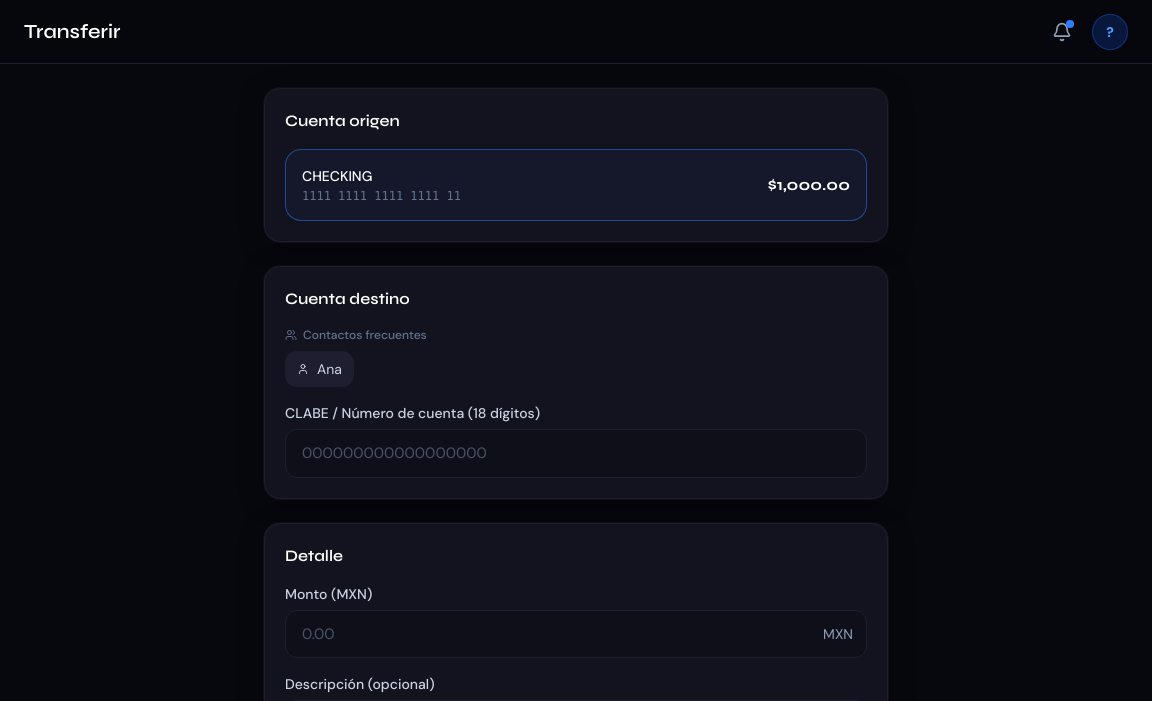
Test: TransferPage — confirm & success steps › shows a summary with the computed post-transfer balance
This screenshot has width=1152, height=701.
Expected: the text "CHECKING" is shown, [302,167,372,185]
Step 1. Type "222222222222222222" into the field with placeholder "000000000000000000" → (576, 453), box [285,429,867,478]
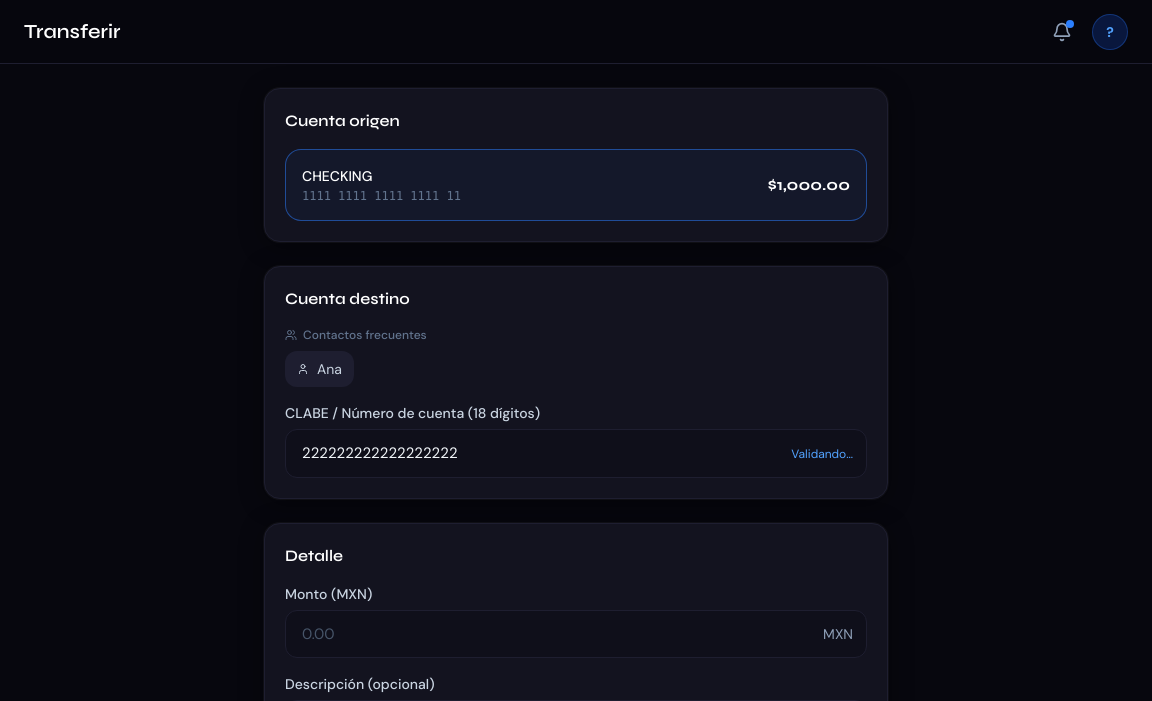
Step 2. Type "150" into the number field with placeholder "0.00" → (576, 634), box [285,610,867,658]
(page scrolled)
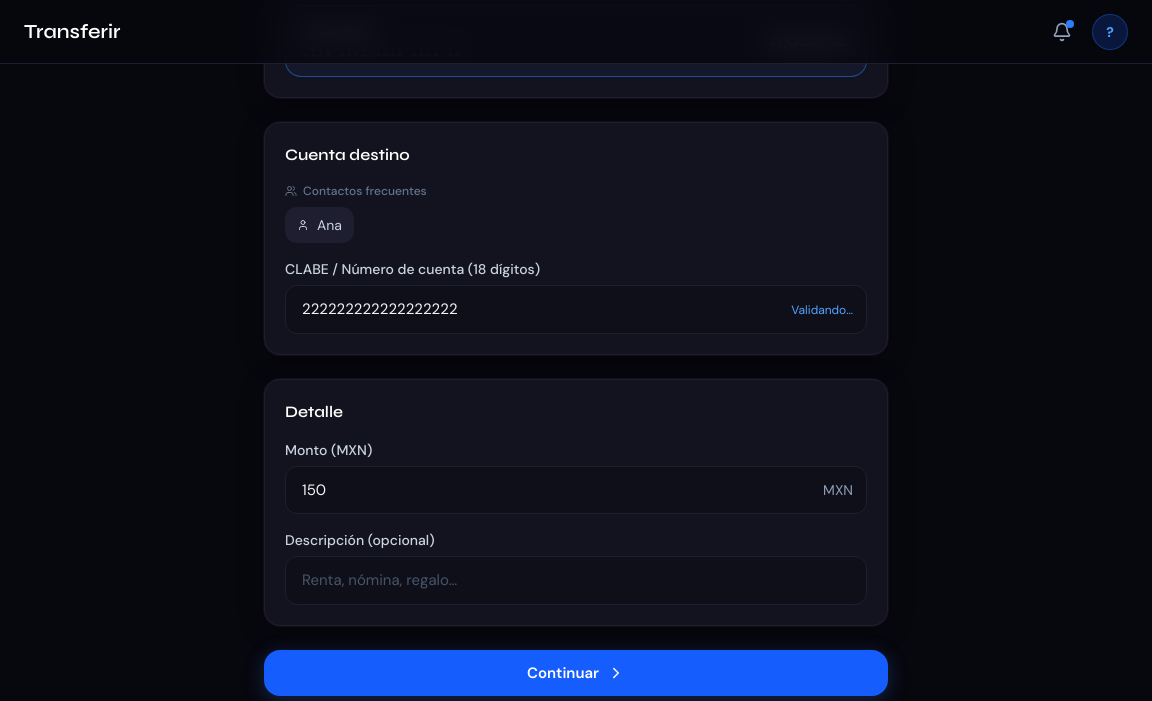
Step 3. Type "Rent" into the field with placeholder "Renta, nómina, regalo…" → (576, 580), box [285,556,867,604]
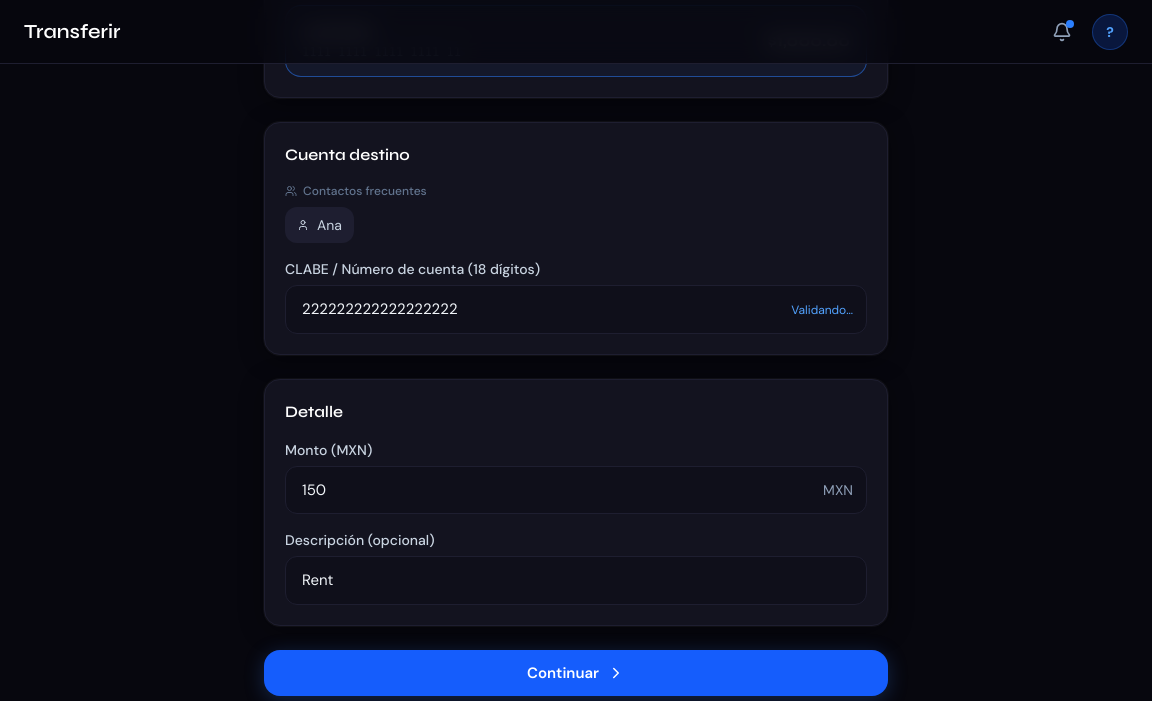
Step 4. Click the button "Continuar" → (576, 673), box [264,650,888,696]
(page scrolled)
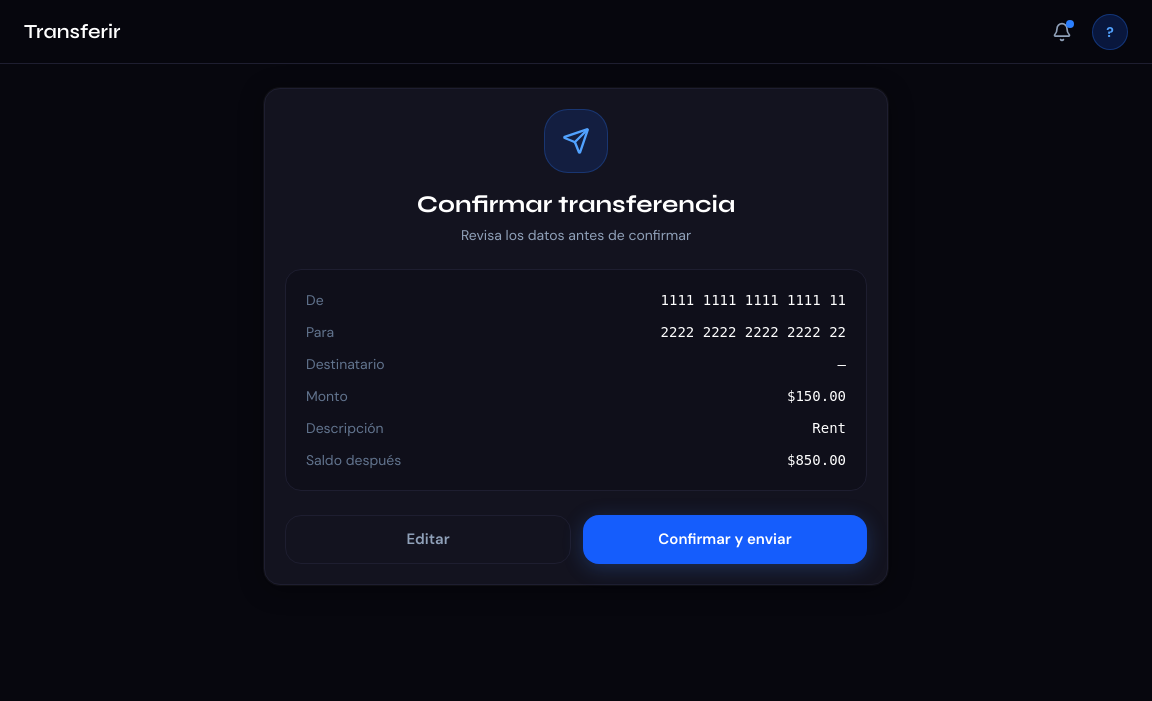
Now the heading "Confirmar transferencia" is shown, box [417,190,735,219]
Now the text "$150.00" is shown, box [787,386,846,406]
Now the text "$850.00" is shown, box [787,450,846,470]
